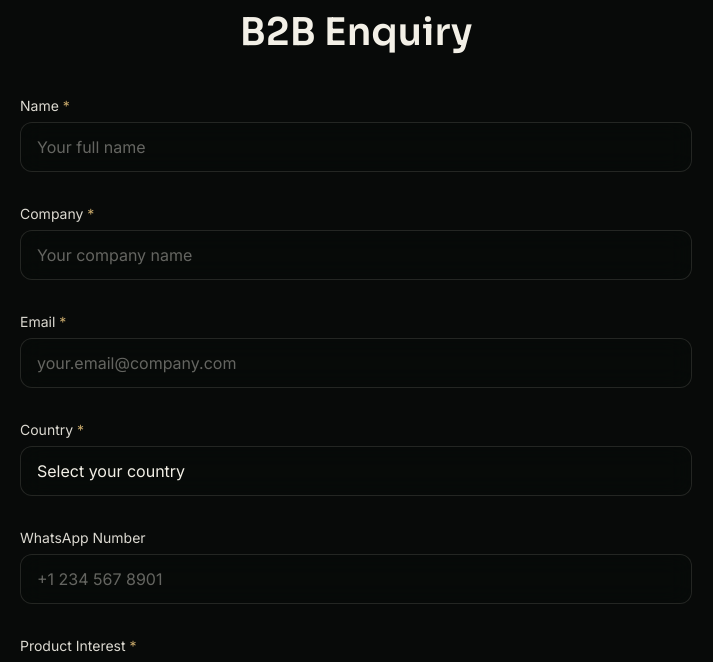
Test: EnquiryForm › Inline Validation Errors (Req 4.4) › displays error for empty required fields on blur
Click the field labelled "Name *".
click(356, 147)  # box [20, 122, 692, 172]
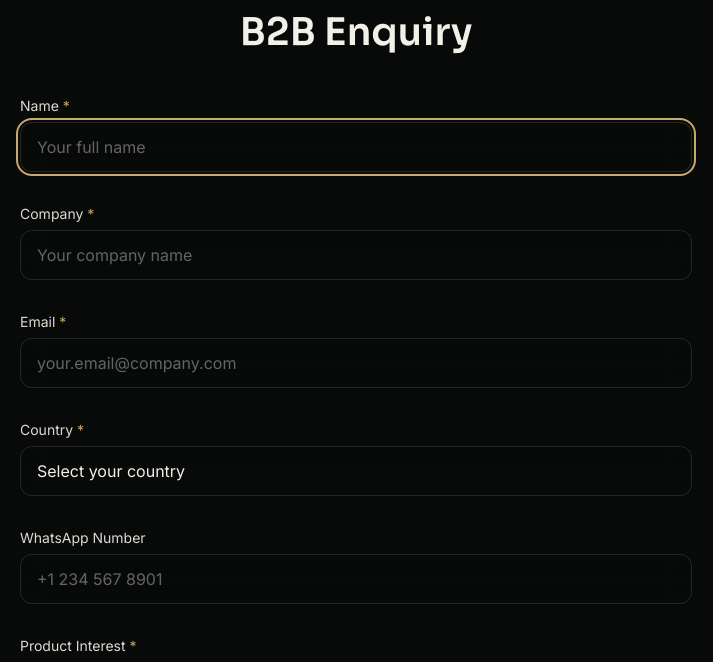
Press Tab
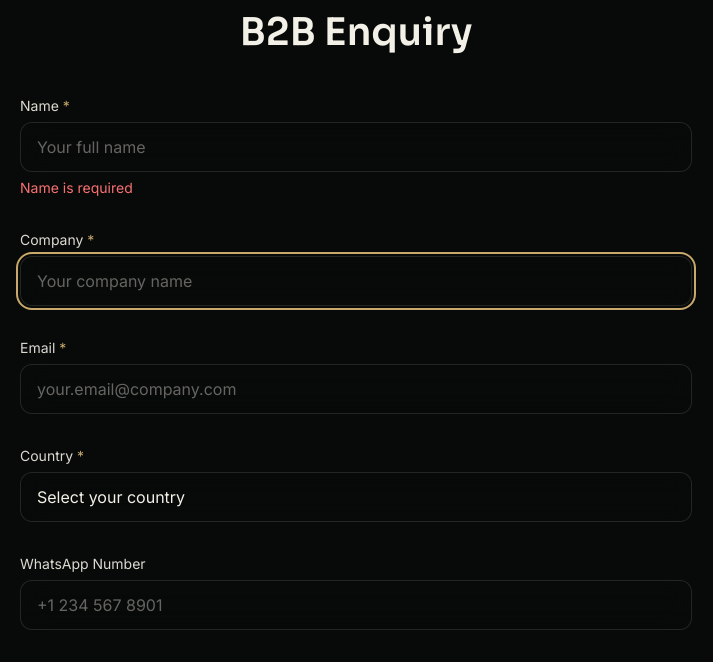
Expected: the text "Name is required" is shown, [20, 179, 133, 196]
